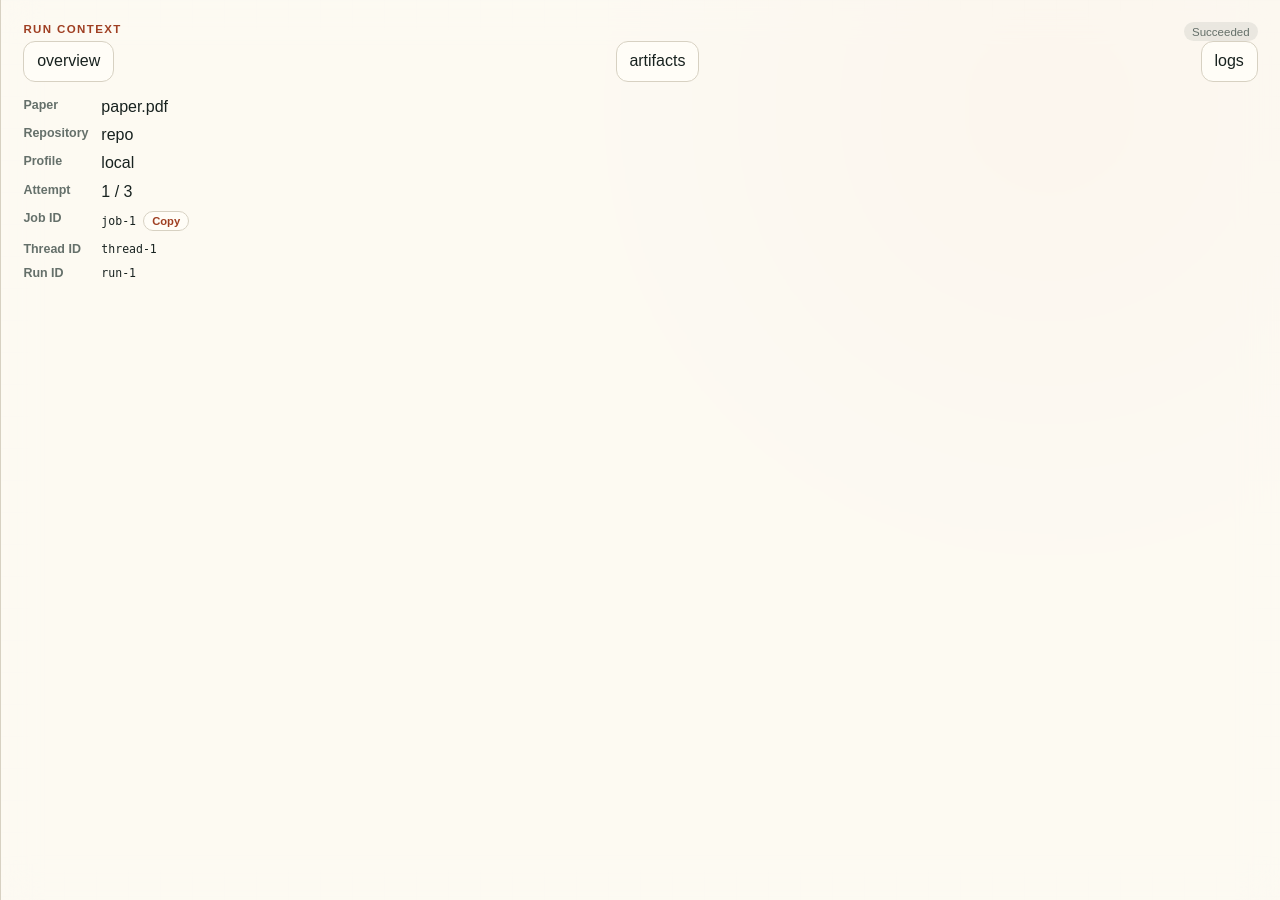
Scenario: artifact delivery › previews as text and exposes download/export links
The image size is (1280, 900).
What coordinates should you click on to do the following:
click the button "artifacts"
I would click on:
 (657, 61)
Its box is [616,41,699,82].
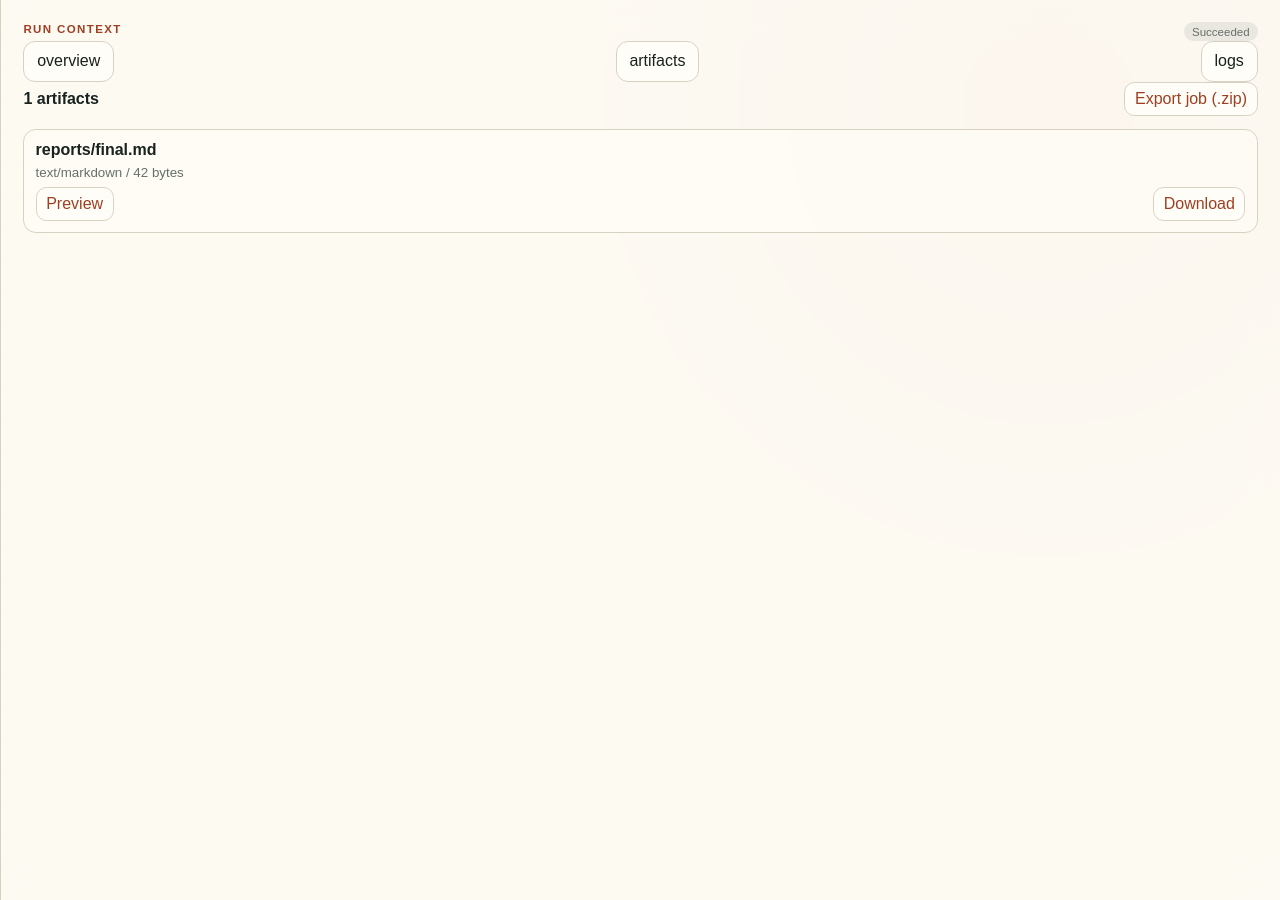
What coordinates should you click on to do the following:
click the button "Preview"
I would click on:
 (75, 204)
Its box is [36,187,114,221].
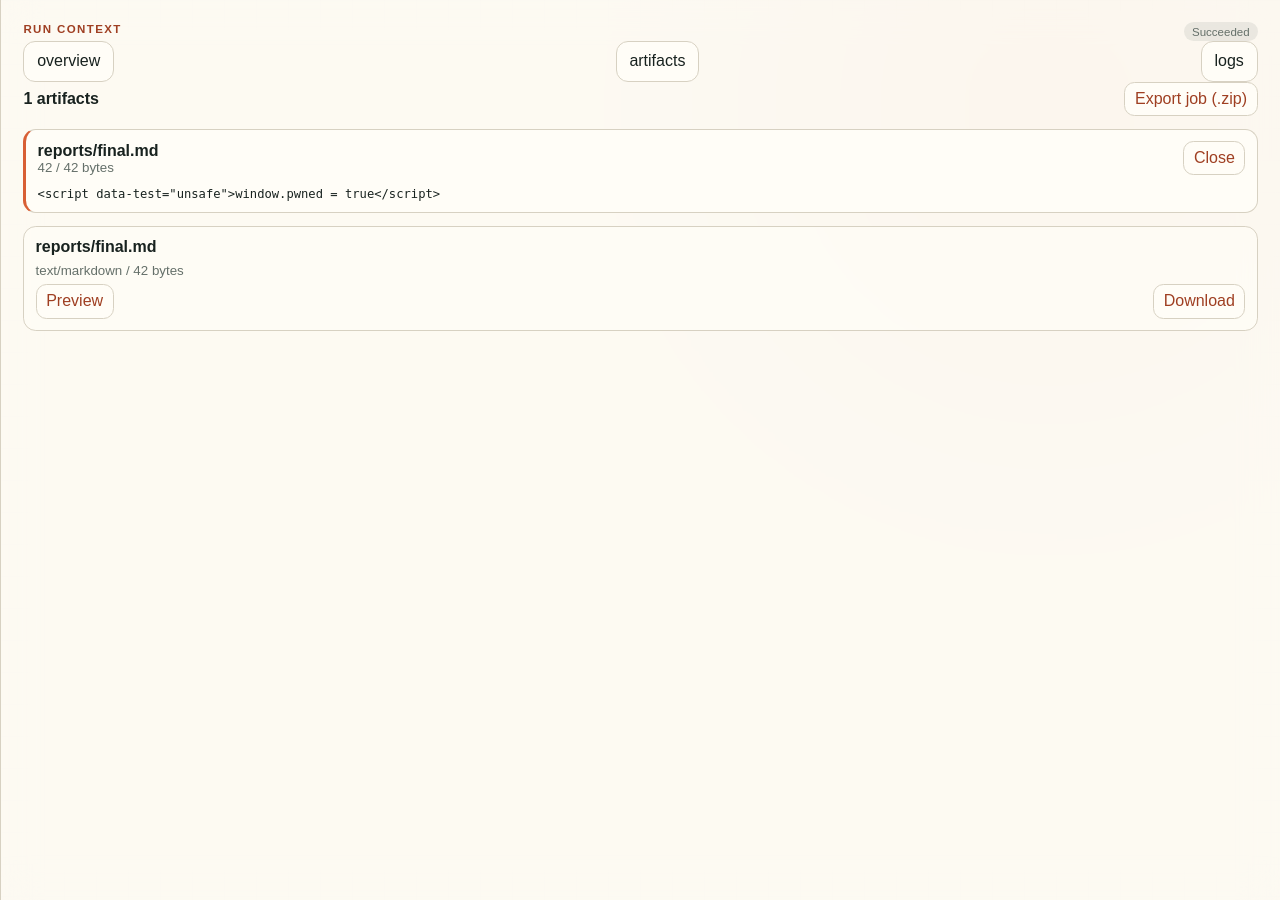
Expected: the text "<script data-test=\"unsafe\">window.pwned = true</script>" is shown, [38,187,440,201]
